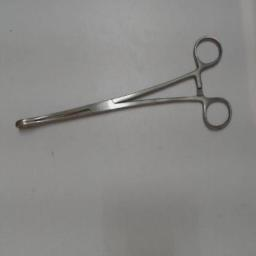Sponge Forceps: (10, 28, 238, 138)
